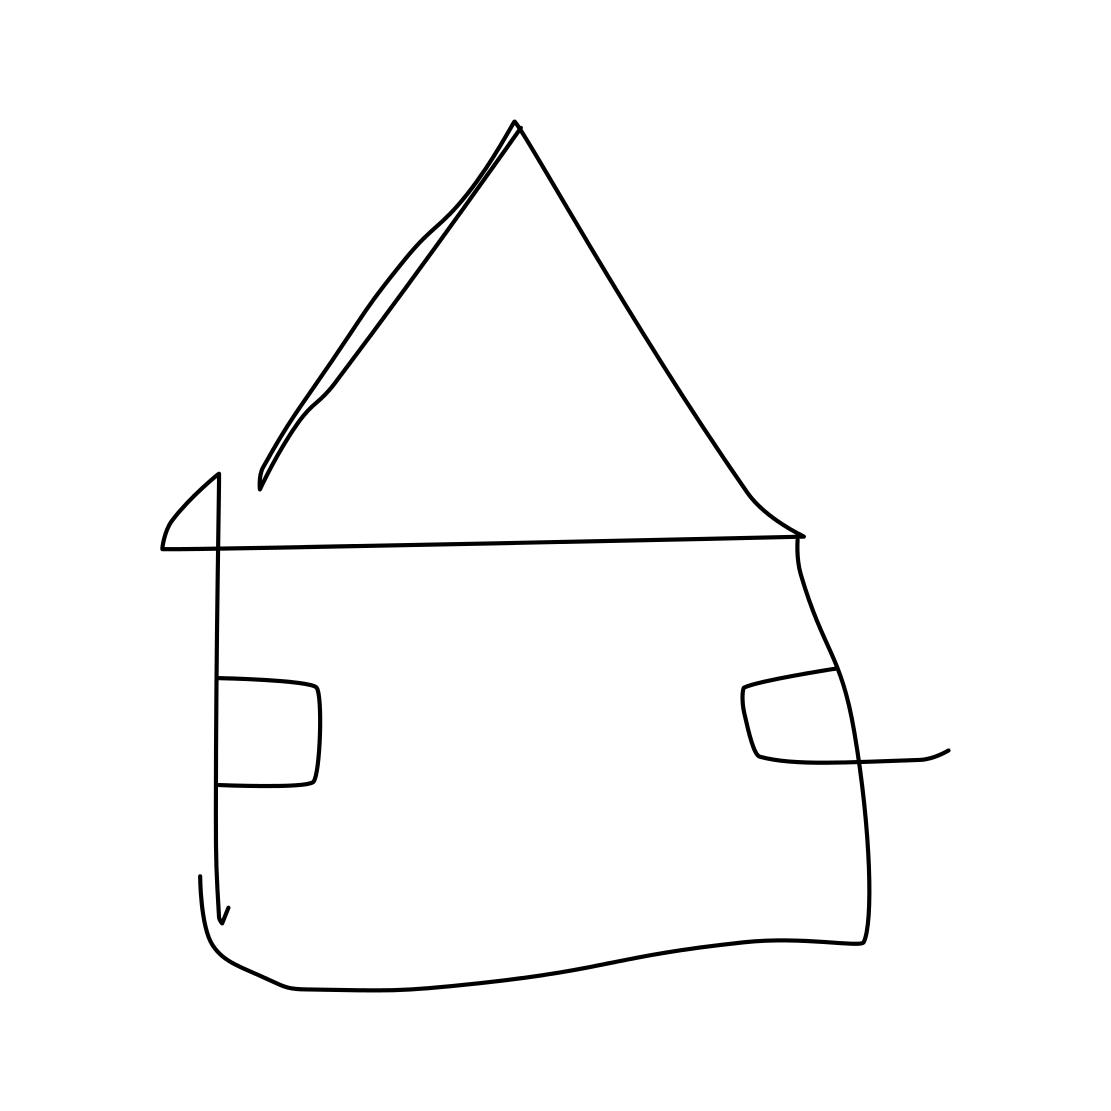House: (134, 87, 889, 1000)
